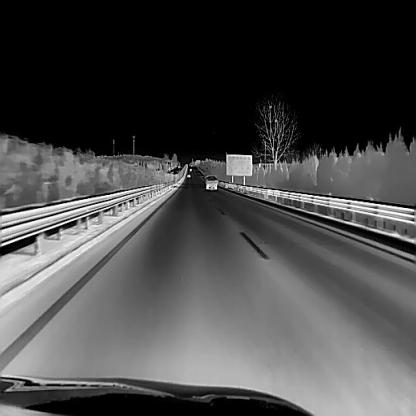truck: (203, 173, 218, 189)
